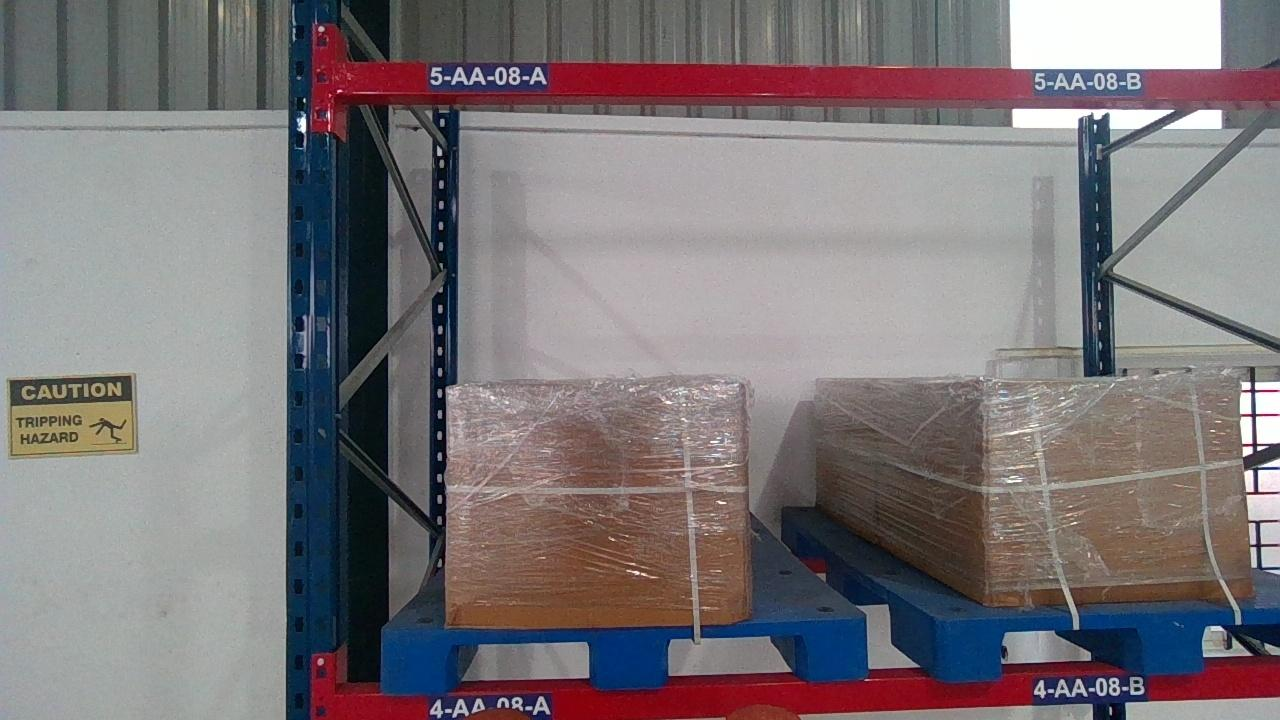h_rack: (334, 666, 1276, 719), (337, 60, 1278, 101)
small_pallet: (379, 619, 870, 687), (935, 610, 1278, 671)
